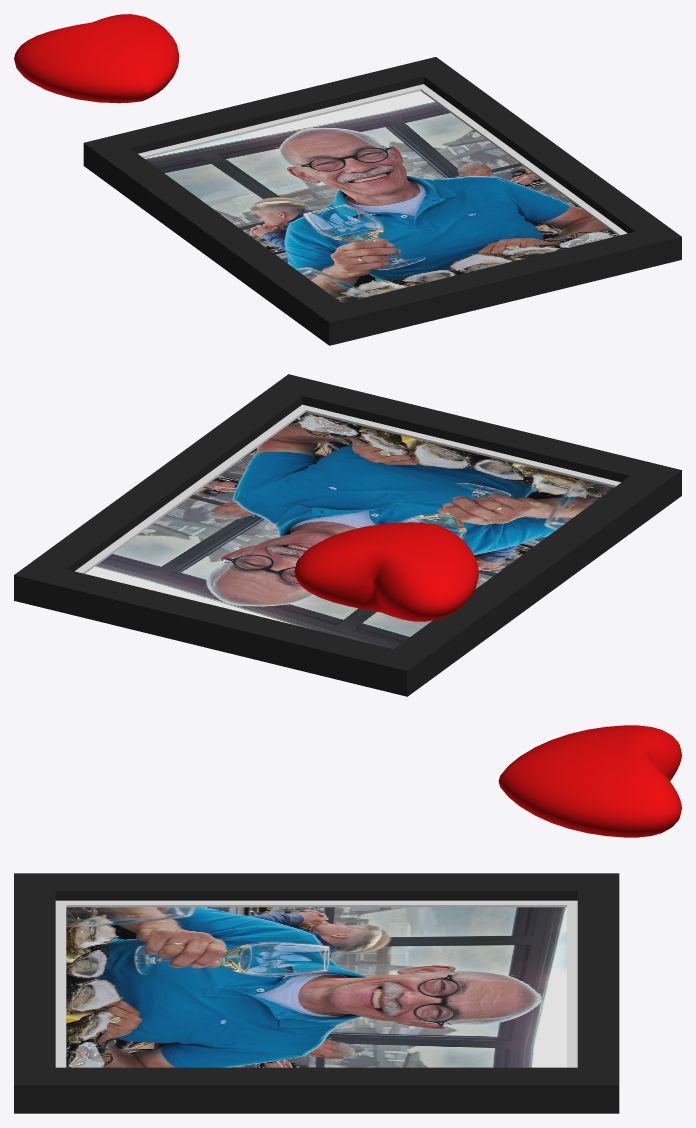
3 views of the same model, one above another, from view 1: azimuth 30°, elevation 25°; view 2: azimuth 150°, elevation 25°; view 3: azimuth 270°, elevation 25° (orthographic). The views are drawn at different scales.
Visible parts, largest first — view 1: PhotoPlane.002, BuitenFrame, Hart, BinnenFrame; view 2: PhotoPlane.002, BuitenFrame, Hart, BinnenFrame; view 3: PhotoPlane.002, BuitenFrame, Hart, BinnenFrame.
Part boxes in pixels (x1=…): PhotoPlane.002: x1=144, y1=91, x2=617, y2=302; BuitenFrame: x1=83, y1=57, x2=681, y2=345; Hart: x1=14, y1=14, x2=179, y2=103; BinnenFrame: x1=138, y1=84, x2=627, y2=235; PhotoPlane.002: x1=85, y1=412, x2=613, y2=648; BuitenFrame: x1=14, y1=374, x2=681, y2=696; Hart: x1=294, y1=522, x2=478, y2=621; BinnenFrame: x1=75, y1=404, x2=620, y2=573; PhotoPlane.002: x1=66, y1=907, x2=566, y2=1067; BuitenFrame: x1=14, y1=873, x2=619, y2=1113; Hart: x1=498, y1=725, x2=681, y2=837; BinnenFrame: x1=55, y1=900, x2=577, y2=1067.
Bounding box in the file's own units: 0.5563 × 0.1754 × 0.6401.
4 materials, 1 textured.
